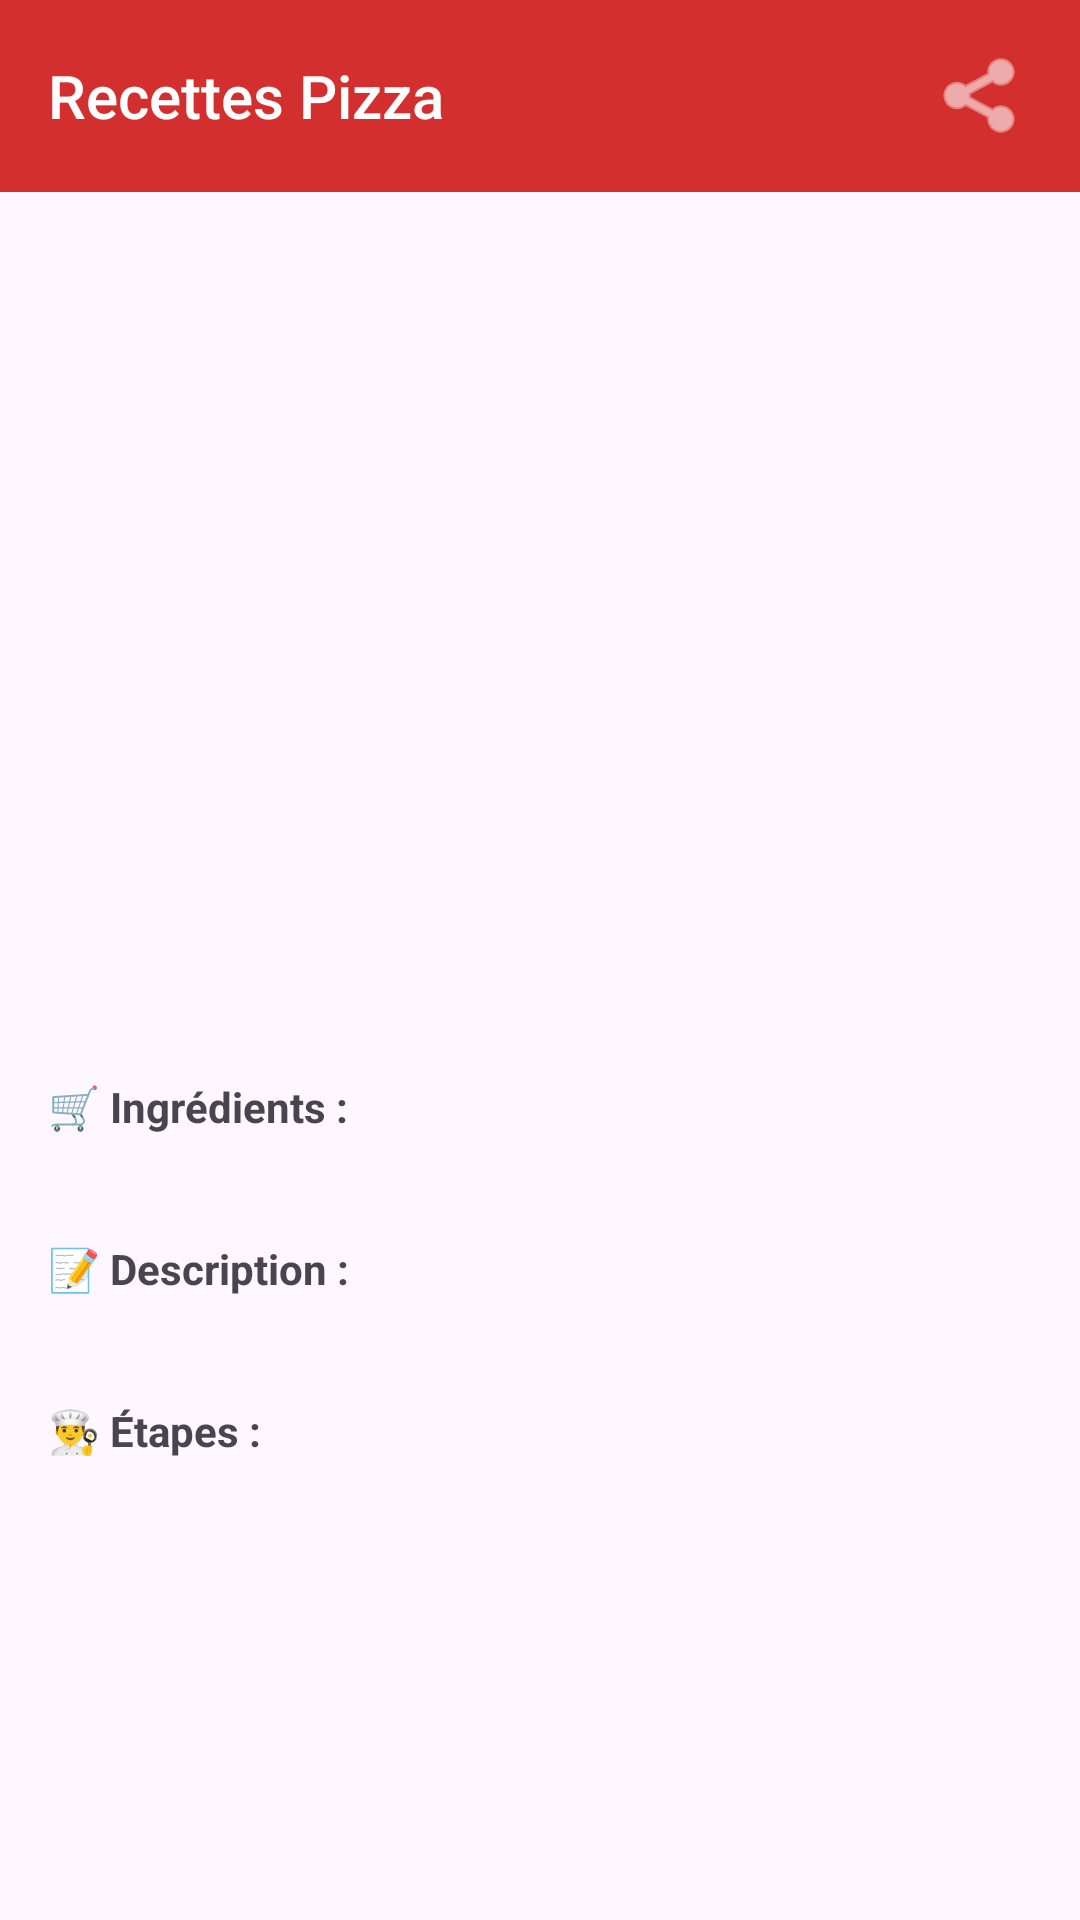

Named icons in this screenshot (1080w x 1920h) and their centers, [x,y]:
Partager: [979,95]
